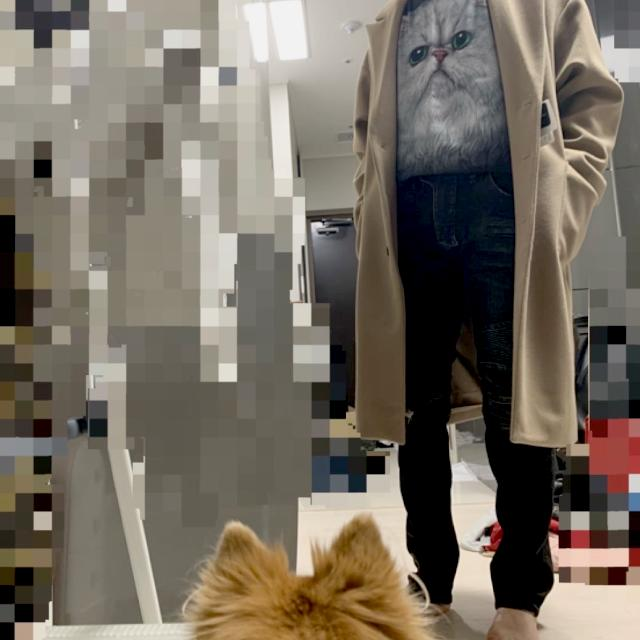coat: (353, 0, 627, 449)
denimpants: (388, 168, 558, 613)
